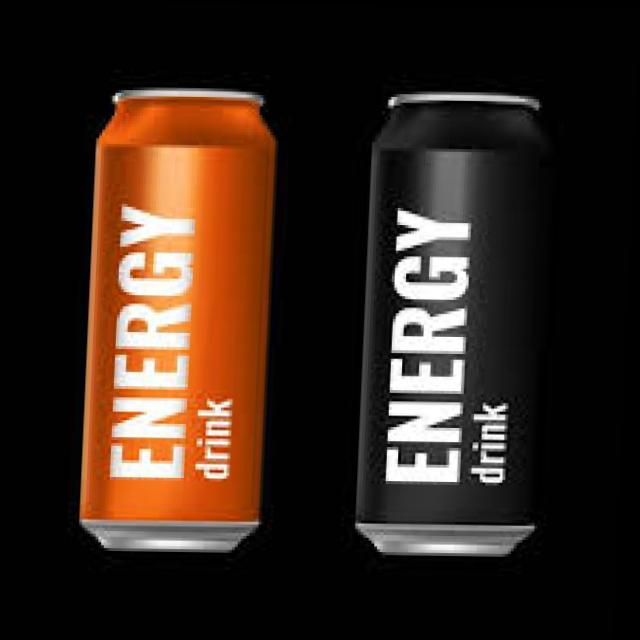Lata: (68, 87, 299, 566)
